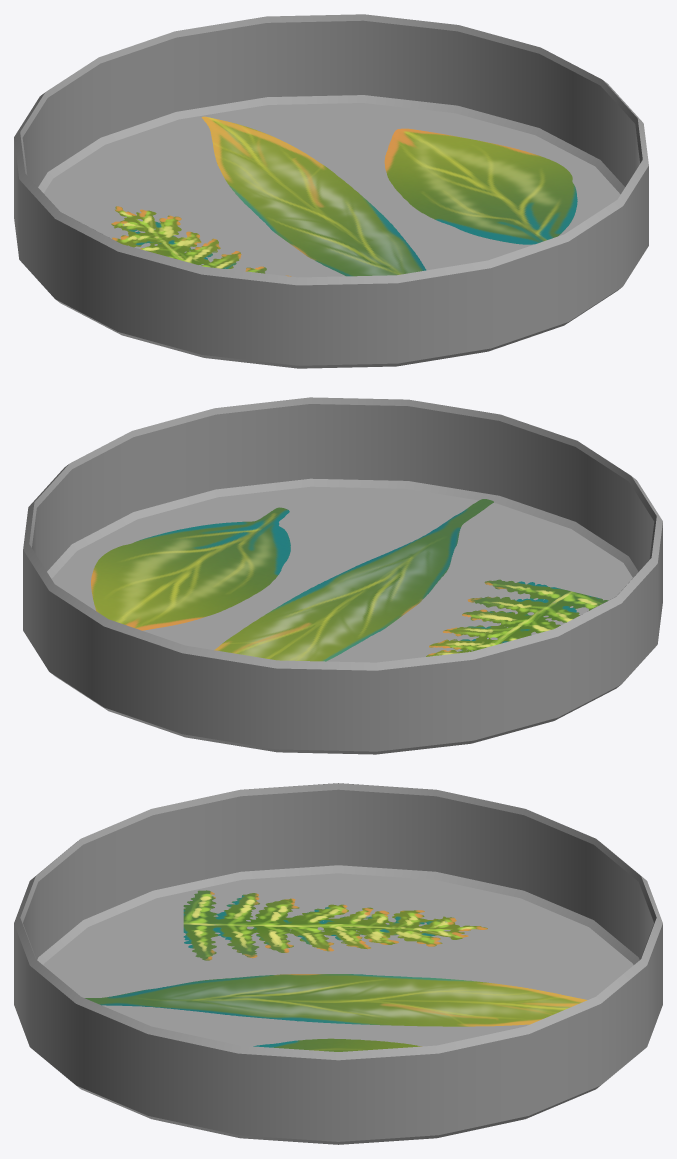
Rendered from HalfDish2.fbx.
3 renders of one model, top to bottom at view 1: azimuth 30°, elevation 25°; view 2: azimuth 150°, elevation 25°; view 3: azimuth 270°, elevation 25°, orthographic.
Visible parts, largest first — view 1: HalfDish2, Leaf2, Leaf1, Leaf3; view 2: HalfDish2, Leaf1, Leaf2, Leaf3; view 3: HalfDish2, Leaf2, Leaf3, Leaf1.
Part boxes in pixels (x1,y1,x2,y2): HalfDish2: (14,14,648,368); Leaf2: (201,116,426,276); Leaf1: (384,128,577,244); Leaf3: (111,206,291,276); HalfDish2: (23,397,662,754); Leaf1: (91,507,290,630); Leaf2: (214,499,493,661); Leaf3: (426,579,608,656); HalfDish2: (14,783,662,1144); Leaf2: (85,974,587,1026); Leaf3: (183,890,487,960); Leaf1: (253,1038,421,1051).
Bounding box in the file's own units: 6.77 × 1.07 × 6.77.
